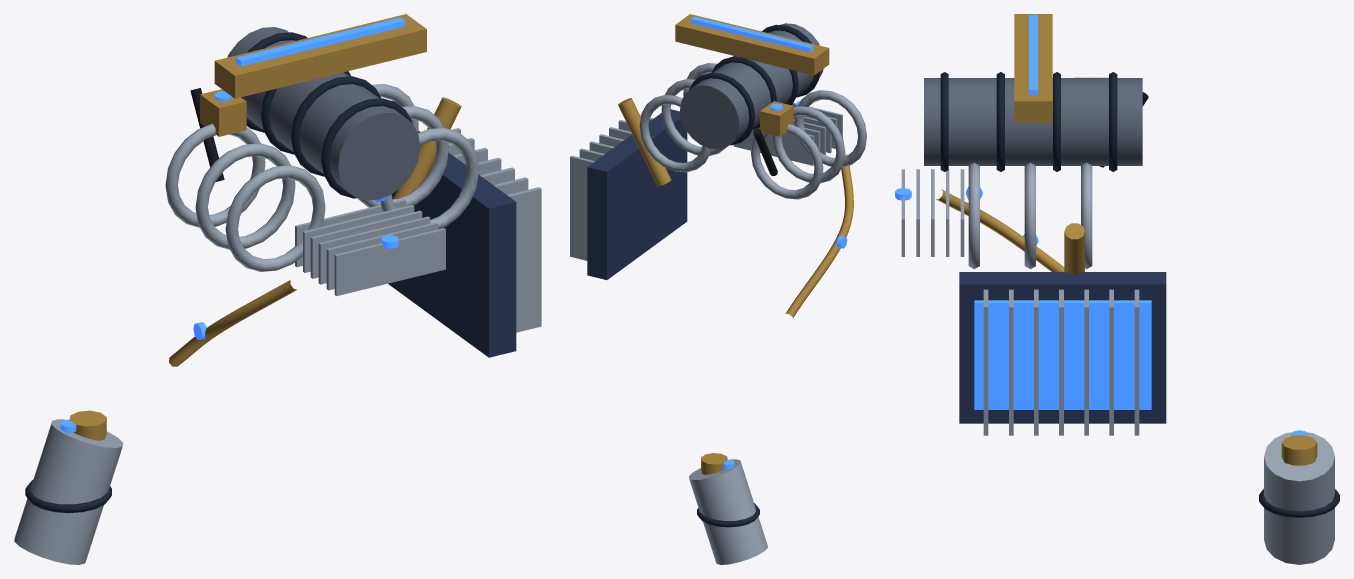
File: tower_lance_rate_s8.glb
3 views of the same model, side by side, from view 1: azimuth 30°, elevation 25°; view 2: azimuth 150°, elevation 25°; view 3: azimuth 270°, elevation 25° (orthographic). The views are drawn at different scales.
Parts seen in each view (by area): view 1: lance_radiator_frame, lance_capacitor_c, lance_breech_sink, lance_reservoir, lance_bus_bar_heavy, lance_radiator_fins, lance_cap_cover_r0, lance_cap_cover_r1, lance_cap_cover_r2, lance_cap_cover_l0, lance_bus_bar_glow, lance_coolant_line (+7 smaller); view 2: lance_radiator_frame, lance_capacitor_c, lance_reservoir, lance_bus_bar_heavy, lance_radiator_fins, lance_breech_sink, lance_cap_cover_r2, lance_cap_cover_r1, lance_cap_cover_r0, lance_coolant_line, lance_cap_cover_l2, lance_radiator_pipe (+9 smaller); view 3: lance_radiator_glow, lance_capacitor_c, lance_radiator_frame, lance_reservoir, lance_radiator_fins, lance_bus_bar_heavy, lance_breech_sink, lance_coolant_line, lance_cap_cover_l1, lance_cap_cover_l0, lance_cap_cover_l2, lance_radiator_pipe (+7 smaller).
Boxes of the visible parts, box(x1,y1,x2,y2) form: lance_radiator_frame: box(388, 130, 516, 357); lance_capacitor_c: box(227, 27, 420, 200); lance_breech_sink: box(295, 199, 445, 296); lance_reservoir: box(14, 419, 123, 564); lance_bus_bar_heavy: box(214, 14, 426, 98); lance_radiator_fins: box(448, 128, 541, 332); lance_cap_cover_r0: box(225, 165, 325, 271); lance_cap_cover_r1: box(195, 143, 295, 249); lance_cap_cover_r2: box(165, 123, 265, 227); lance_cap_cover_l0: box(380, 128, 478, 229); lance_bus_bar_glow: box(236, 17, 405, 66); lance_coolant_line: box(169, 280, 296, 366); lance_radiator_frame: box(587, 109, 687, 279); lance_capacitor_c: box(680, 23, 823, 149); lance_reservoir: box(689, 459, 767, 564); lance_bus_bar_heavy: box(675, 14, 829, 75); lance_radiator_fins: box(570, 115, 653, 260); lance_breech_sink: box(733, 102, 842, 165); lance_cap_cover_r2: box(751, 124, 823, 199); lance_cap_cover_r1: box(773, 106, 845, 183); lance_cap_cover_r0: box(794, 90, 866, 167); lance_coolant_line: box(785, 154, 853, 317); lance_cap_cover_l2: box(639, 95, 710, 172); lance_radiator_pipe: box(618, 98, 671, 186); lance_radiator_glow: box(974, 300, 1151, 409); lance_capacitor_c: box(924, 78, 1142, 165); lance_radiator_frame: box(959, 272, 1166, 423); lance_reservoir: box(1264, 432, 1334, 564); lance_radiator_fins: box(983, 289, 1139, 435); lance_bus_bar_heavy: box(1014, 14, 1052, 122); lance_breech_sink: box(901, 169, 964, 256); lance_coolant_line: box(936, 189, 1064, 271); lance_cap_cover_l1: box(1024, 162, 1035, 269); lance_cap_cover_l0: box(968, 162, 979, 269); lance_cap_cover_l2: box(1081, 162, 1092, 269); lance_radiator_pipe: box(1064, 223, 1084, 273).
Size of the model in its own units: 1.29 by 2.08 by 1.5.
